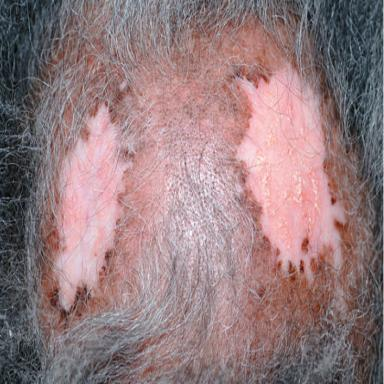Lupus-Erythematosus-Chronicus-Discoides: (233, 64, 346, 283), (53, 105, 133, 311)
